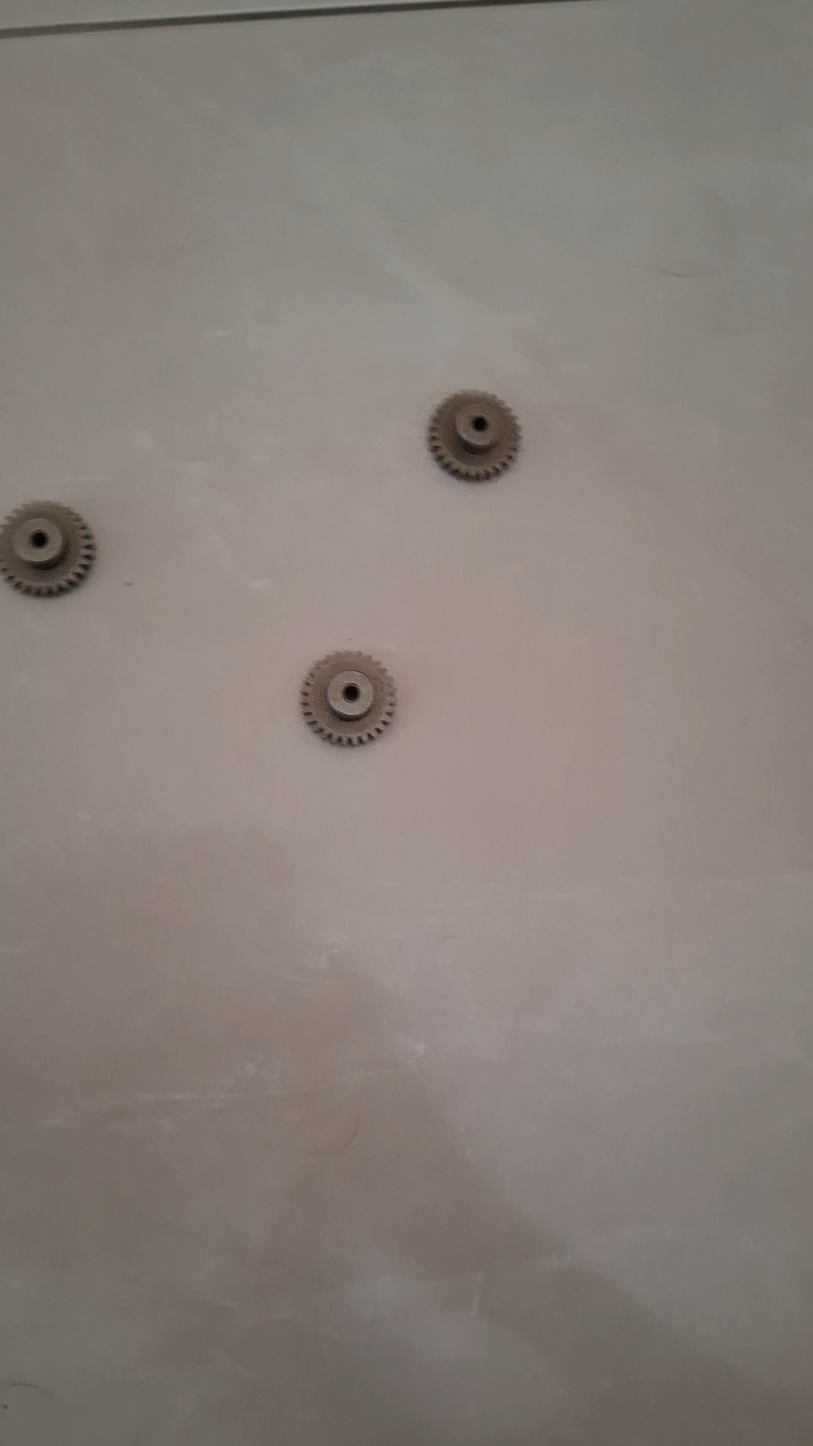spur gear: (300, 651, 396, 746), (0, 502, 95, 596), (428, 391, 521, 481)
